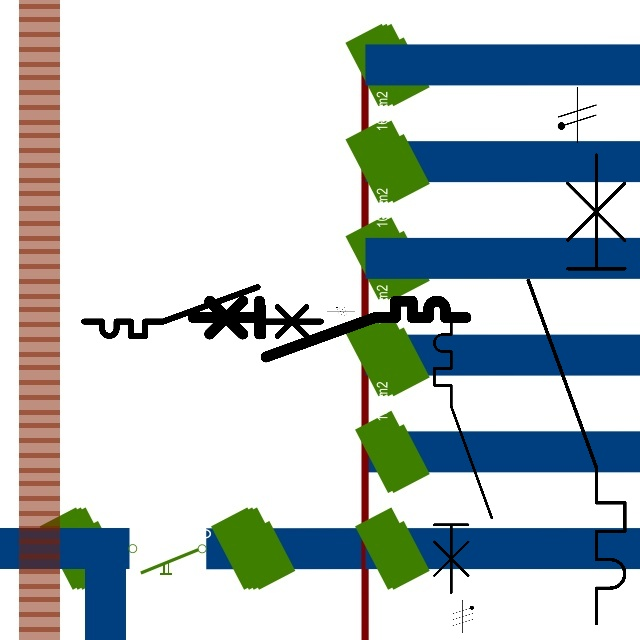interruptor_termomagnetico: (516, 142, 637, 636), (427, 306, 499, 600), (186, 294, 473, 364), (78, 281, 327, 342)
